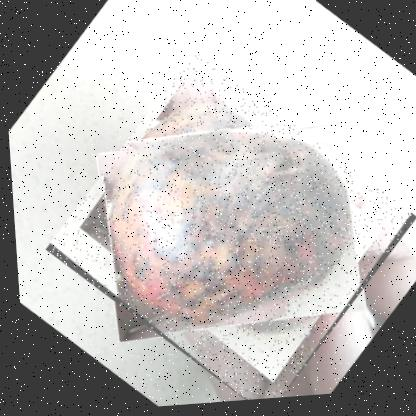pomegranate_rotten: (29, 38, 415, 414)
